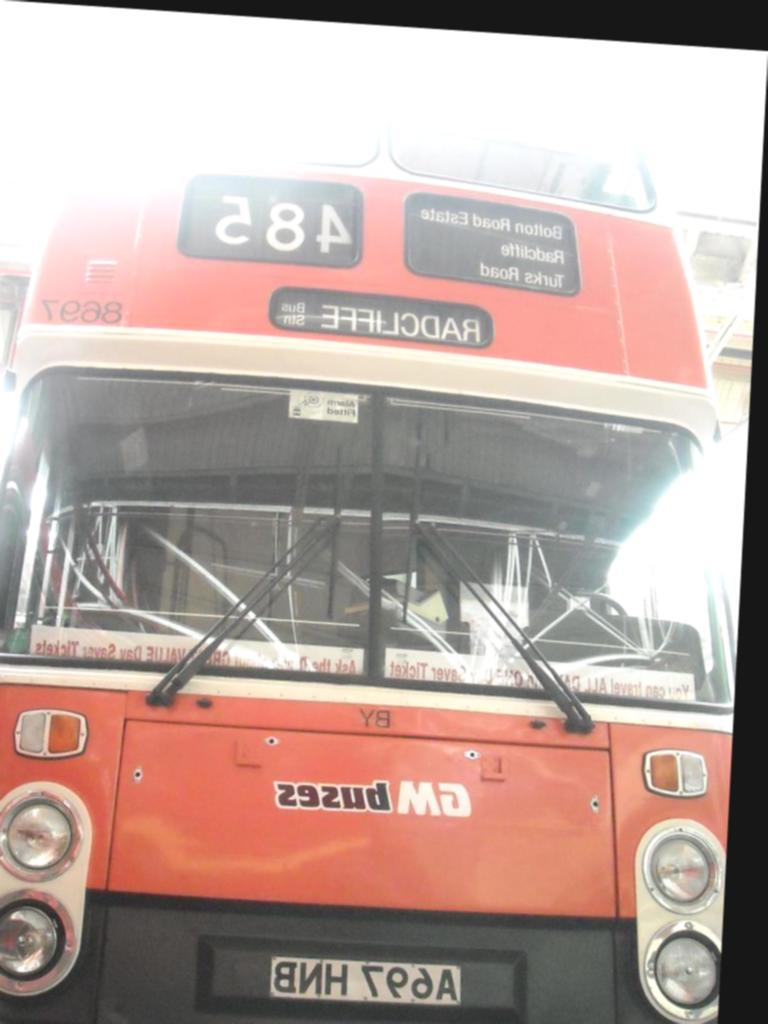License_Plate: (270, 950, 463, 1010)
